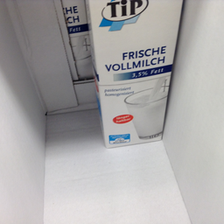milk: (85, 1, 186, 150)
